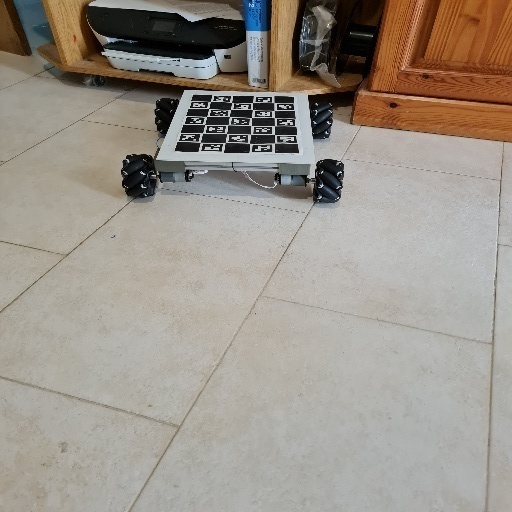Omniwheel: (120, 88, 347, 204)
